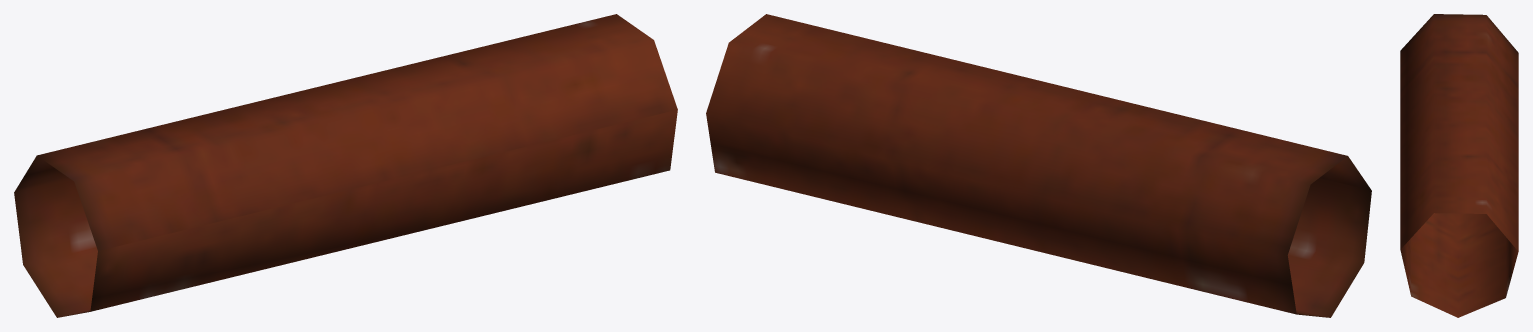
Rendered from lab_thick_straight_tiny_orange.dae.
3 views of the same model, side by side, from view 1: azimuth 30°, elevation 25°; view 2: azimuth 150°, elevation 25°; view 3: azimuth 270°, elevation 25° (orthographic). The views are drawn at different scales.
Visible parts, largest first — view 1: straight_tiny; view 2: straight_tiny; view 3: straight_tiny.
Part boxes in pixels (x1,y1,x2,y2): straight_tiny: (14, 14, 677, 317); straight_tiny: (706, 14, 1371, 317); straight_tiny: (1400, 14, 1518, 317).
Size of the model in its own units: 0.5 by 0.1228 by 0.1254.
Materials: 1 (1 with a texture image).
